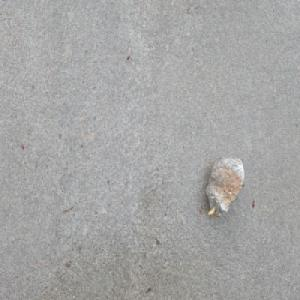Rock: (204, 156, 244, 221)
